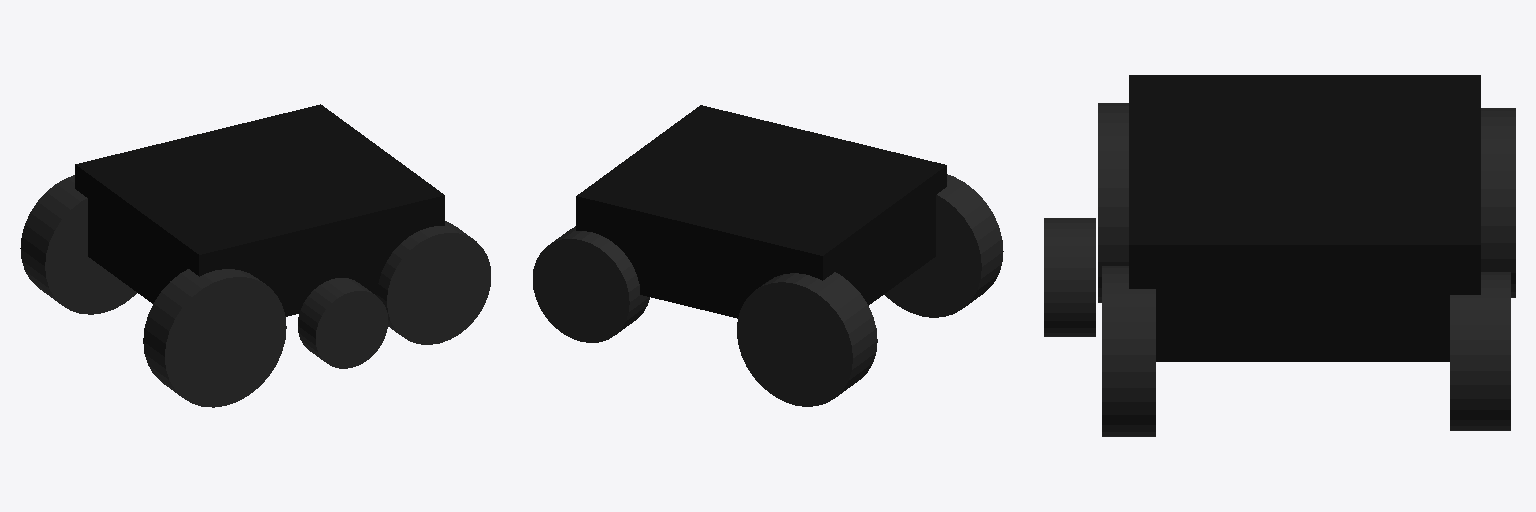
URDF robot description (evolved_robot):
<?xml version="1.0"?>
<robot name="evolved_robot">
  <material name="metal">
    <color rgba="0.7 0.7 0.7 1.0"/>
  </material>
  <material name="plastic">
    <color rgba="0.3 0.3 0.9 1.0"/>
  </material>
  <material name="rubber">
    <color rgba="0.1 0.1 0.1 1.0"/>
  </material>
  <material name="red">
    <color rgba="1.0 0.0 0.0 1.0"/>
  </material>
  <material name="wheel_material">
    <color rgba="0.2 0.2 0.2 1.0"/>
  </material>
  <link name="base_link">
    <visual>
      <geometry><box size="0.31686385695691044 0.27719624380797636 0.102205314231111"/></geometry>
      <material name="rubber"/>
    </visual>
    <collision>
      <geometry><box size="0.31686385695691044 0.27719624380797636 0.102205314231111"/></geometry>
    </collision>
    <inertial>
      <mass value="5.0"/>
      <inertia ixx="0.07273640319860934" ixy="0" ixz="0" 
               iyy="0.09237385841890795" iyz="0" 
               izz="0.1477003845223837"/>
    </inertial>
  </link>
  <link name="link1">
    <visual>
      <geometry>
        <cylinder radius="0.062496834939484054" length="0.04833046047246495"/>
      </geometry>
      <material name="wheel_material"/>
    </visual>
    <collision>
      <geometry>
        <cylinder radius="0.062496834939484054" length="0.04833046047246495"/>
      </geometry>
    </collision>
    <inertial>
      <mass value="1.0"/>
      <inertia ixx="0.0011711163784866535" ixy="0" ixz="0" 
               iyy="0.0011711163784866535" iyz="0" 
               izz="0.0019529271887265575"/>
    </inertial>
  </link>
  <joint name="joint1" type="continuous">
    <parent link="base_link"/>
    <child link="link1"/>
    <origin xyz="0.13843192847845523 0.13859812190398818 -0.0511026571155555" rpy="1.5708 0 0"/>
    <axis xyz="0 0 1"/>
    <dynamics damping="0.9212135507331041" friction="0.1"/>
  </joint>
  <link name="link2">
    <visual>
      <geometry>
        <cylinder radius="0.06747094367397934" length="0.042593677579420314"/>
      </geometry>
      <material name="wheel_material"/>
    </visual>
    <collision>
      <geometry>
        <cylinder radius="0.06747094367397934" length="0.042593677579420314"/>
      </geometry>
    </collision>
    <inertial>
      <mass value="1.0"/>
      <inertia ixx="0.0012892671742092906" ixy="0" ixz="0" 
               iyy="0.0012892671742092906" iyz="0" 
               izz="0.002276164120128646"/>
    </inertial>
  </link>
  <joint name="joint2" type="continuous">
    <parent link="base_link"/>
    <child link="link2"/>
    <origin xyz="0.13843192847845523 -0.13859812190398818 -0.0511026571155555" rpy="1.5708 0 0"/>
    <axis xyz="0 0 1"/>
    <dynamics damping="0.9354300022901333" friction="0.1"/>
  </joint>
  <link name="link3">
    <visual>
      <geometry>
        <cylinder radius="0.07479972298396817" length="0.054944351765301117"/>
      </geometry>
      <material name="wheel_material"/>
    </visual>
    <collision>
      <geometry>
        <cylinder radius="0.07479972298396817" length="0.054944351765301117"/>
      </geometry>
    </collision>
    <inertial>
      <mass value="1.0"/>
      <inertia ixx="0.0016503231221953562" ixy="0" ixz="0" 
               iyy="0.0016503231221953562" iyz="0" 
               izz="0.002797499279239188"/>
    </inertial>
  </link>
  <joint name="joint3" type="continuous">
    <parent link="base_link"/>
    <child link="link3"/>
    <origin xyz="-0.13843192847845523 0.13859812190398818 -0.0511026571155555" rpy="1.5708 0 0"/>
    <axis xyz="0 0 1"/>
    <dynamics damping="0.3826970328188468" friction="0.1"/>
  </joint>
  <link name="link4">
    <visual>
      <geometry>
        <cylinder radius="0.07855955563731398" length="0.04819097341682854"/>
      </geometry>
      <material name="wheel_material"/>
    </visual>
    <collision>
      <geometry>
        <cylinder radius="0.07855955563731398" length="0.04819097341682854"/>
      </geometry>
    </collision>
    <inertial>
      <mass value="1.0"/>
      <inertia ixx="0.0017364317720548474" ixy="0" ixz="0" 
               iyy="0.0017364317720548474" iyz="0" 
               izz="0.0030858018909661156"/>
    </inertial>
  </link>
  <joint name="joint4" type="continuous">
    <parent link="base_link"/>
    <child link="link4"/>
    <origin xyz="-0.13843192847845523 -0.13859812190398818 -0.0511026571155555" rpy="1.5708 0 0"/>
    <axis xyz="0 0 1"/>
    <dynamics damping="0.8313776647030997" friction="0.1"/>
  </joint>
  <link name="link5">
    <visual>
      <geometry>
        <cylinder radius="0.046887641377587906" length="0.04019145101768177"/>
      </geometry>
      <material name="wheel_material"/>
    </visual>
    <collision>
      <geometry>
        <cylinder radius="0.046887641377587906" length="0.04019145101768177"/>
      </geometry>
    </collision>
    <inertial>
      <mass value="1.0"/>
      <inertia ixx="0.0006842254563972161" ixy="0" ixz="0" 
               iyy="0.0006842254563972161" iyz="0" 
               izz="0.0010992254569766467"/>
    </inertial>
  </link>
  <joint name="joint5" type="continuous">
    <parent link="base_link"/>
    <child link="link5"/>
    <origin xyz="0 -0.18479749587198424 -0.0511026571155555" rpy="1.5708 0 0"/>
    <axis xyz="0 0 1"/>
    <dynamics damping="0.4669252455130477" friction="0.1"/>
  </joint>
</robot>

--- Facts derived from the render (not from the file) ---
3 views of the same robot in one strip: view 1: azimuth 30°, elevation 25°; view 2: azimuth 150°, elevation 25°; view 3: azimuth 270°, elevation 25° (orthographic).
Model evolved_robot with 6 links and 5 joints (5 continuous), rooted at base_link, posed every joint at zero.
Links seen in each view (by area): view 1: base_link, link4, link2, link3, link5; view 2: base_link, link3, link1, link4; view 3: base_link, link1, link2, link5, link3, link4.
Boxes of the visible links, x1=… form: base_link: x1=75, y1=104, x2=444, y2=316; link4: x1=143, y1=269, x2=286, y2=407; link2: x1=376, y1=221, x2=490, y2=344; link3: x1=20, y1=175, x2=136, y2=314; link5: x1=298, y1=278, x2=387, y2=368; base_link: x1=576, y1=105, x2=946, y2=318; link3: x1=737, y1=272, x2=877, y2=406; link1: x1=533, y1=226, x2=649, y2=342; link4: x1=884, y1=174, x2=1003, y2=317; base_link: x1=1129, y1=75, x2=1480, y2=361; link1: x1=1450, y1=272, x2=1510, y2=430; link2: x1=1102, y1=266, x2=1155, y2=436; link5: x1=1044, y1=218, x2=1095, y2=336; link3: x1=1481, y1=108, x2=1515, y2=297; link4: x1=1098, y1=103, x2=1128, y2=302.
Bounding box of the posed robot: 0.4229 × 0.371 × 0.1808 m (x, y, z).
Geometry: primitives only (box / cylinder / sphere), no mesh files.